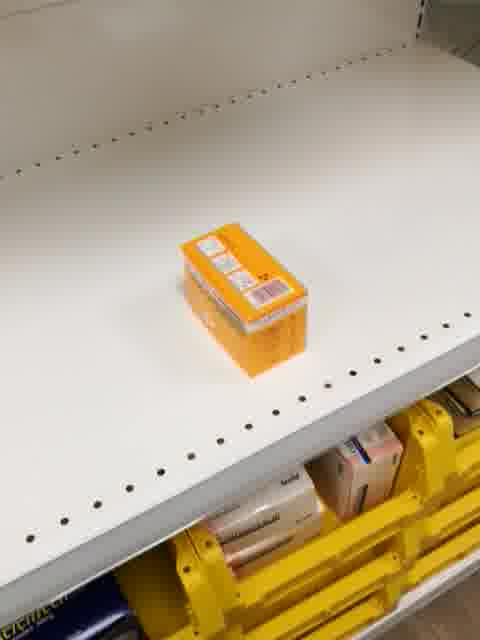jasminetea: (179, 220, 310, 380)
